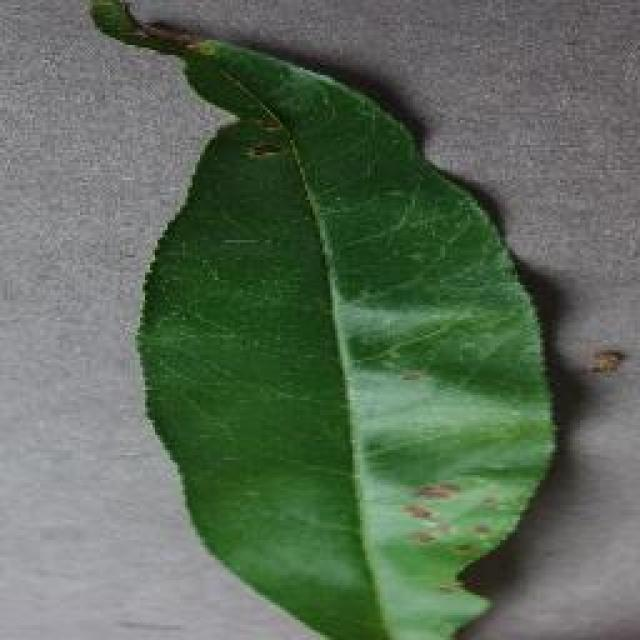Peach_Bacterial_Spot: (163, 35, 340, 182)
